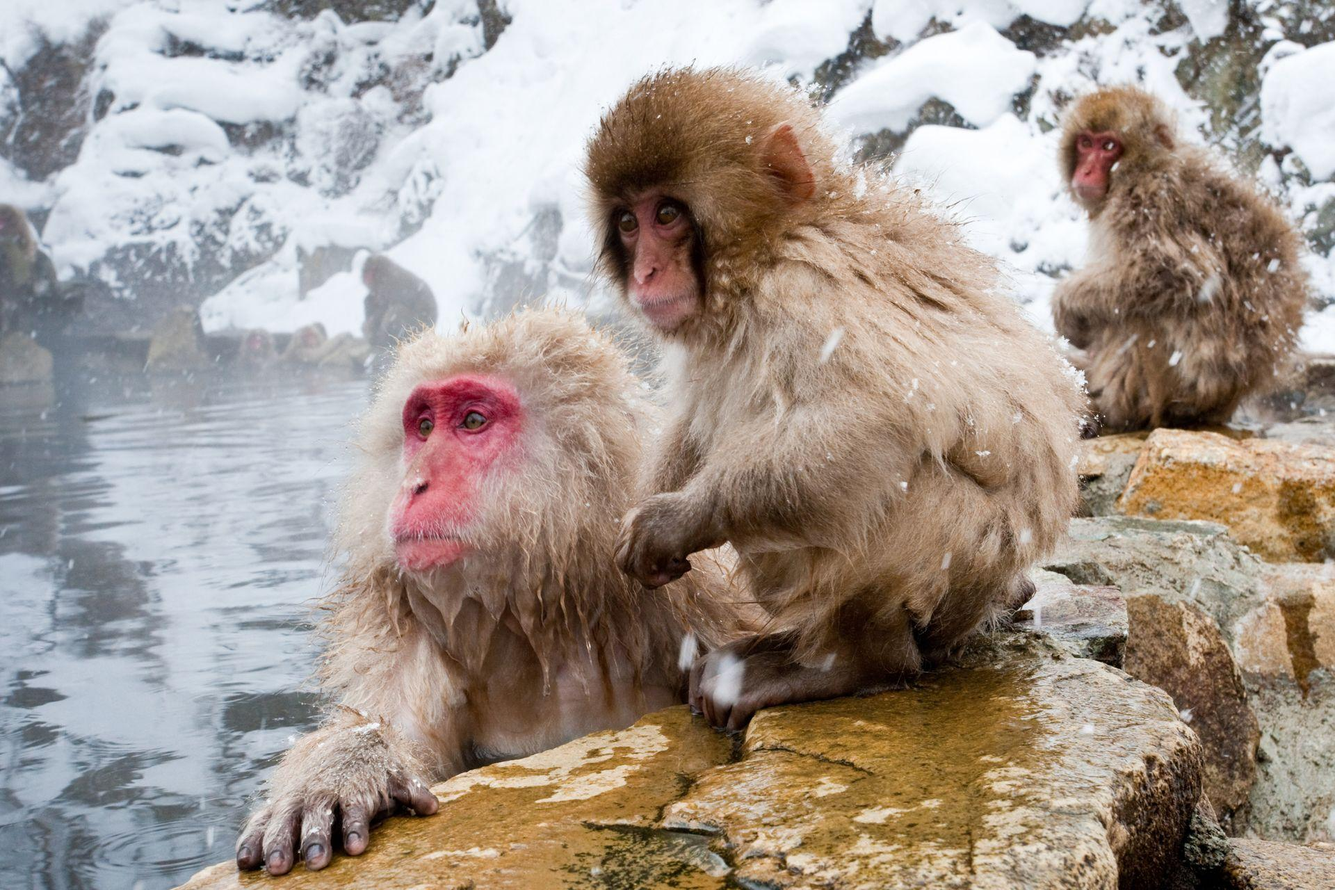monkey: (234, 68, 1085, 877)
